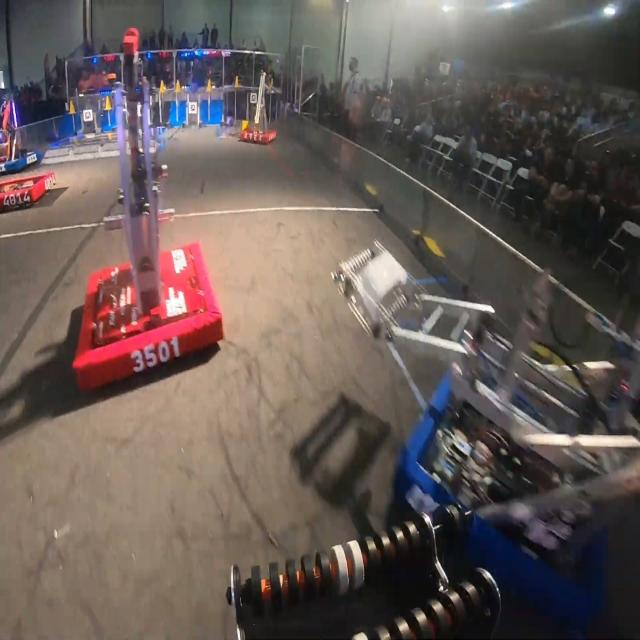robot: (332, 240, 640, 621), (70, 24, 224, 391), (0, 95, 41, 173), (239, 66, 278, 146), (0, 173, 56, 206)
